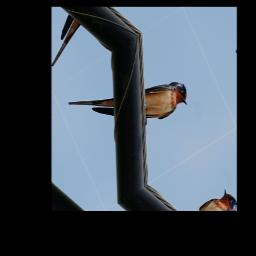Swallow: (68, 40, 193, 164)
